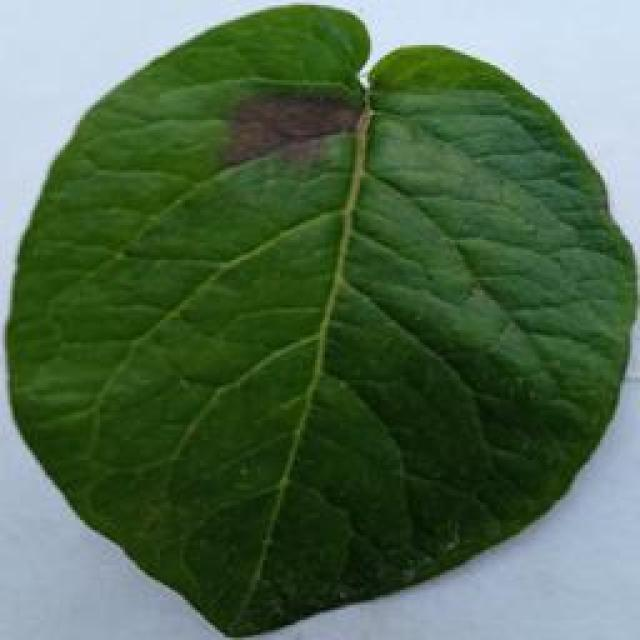Potato_Late_Blight: (5, 10, 626, 638)
